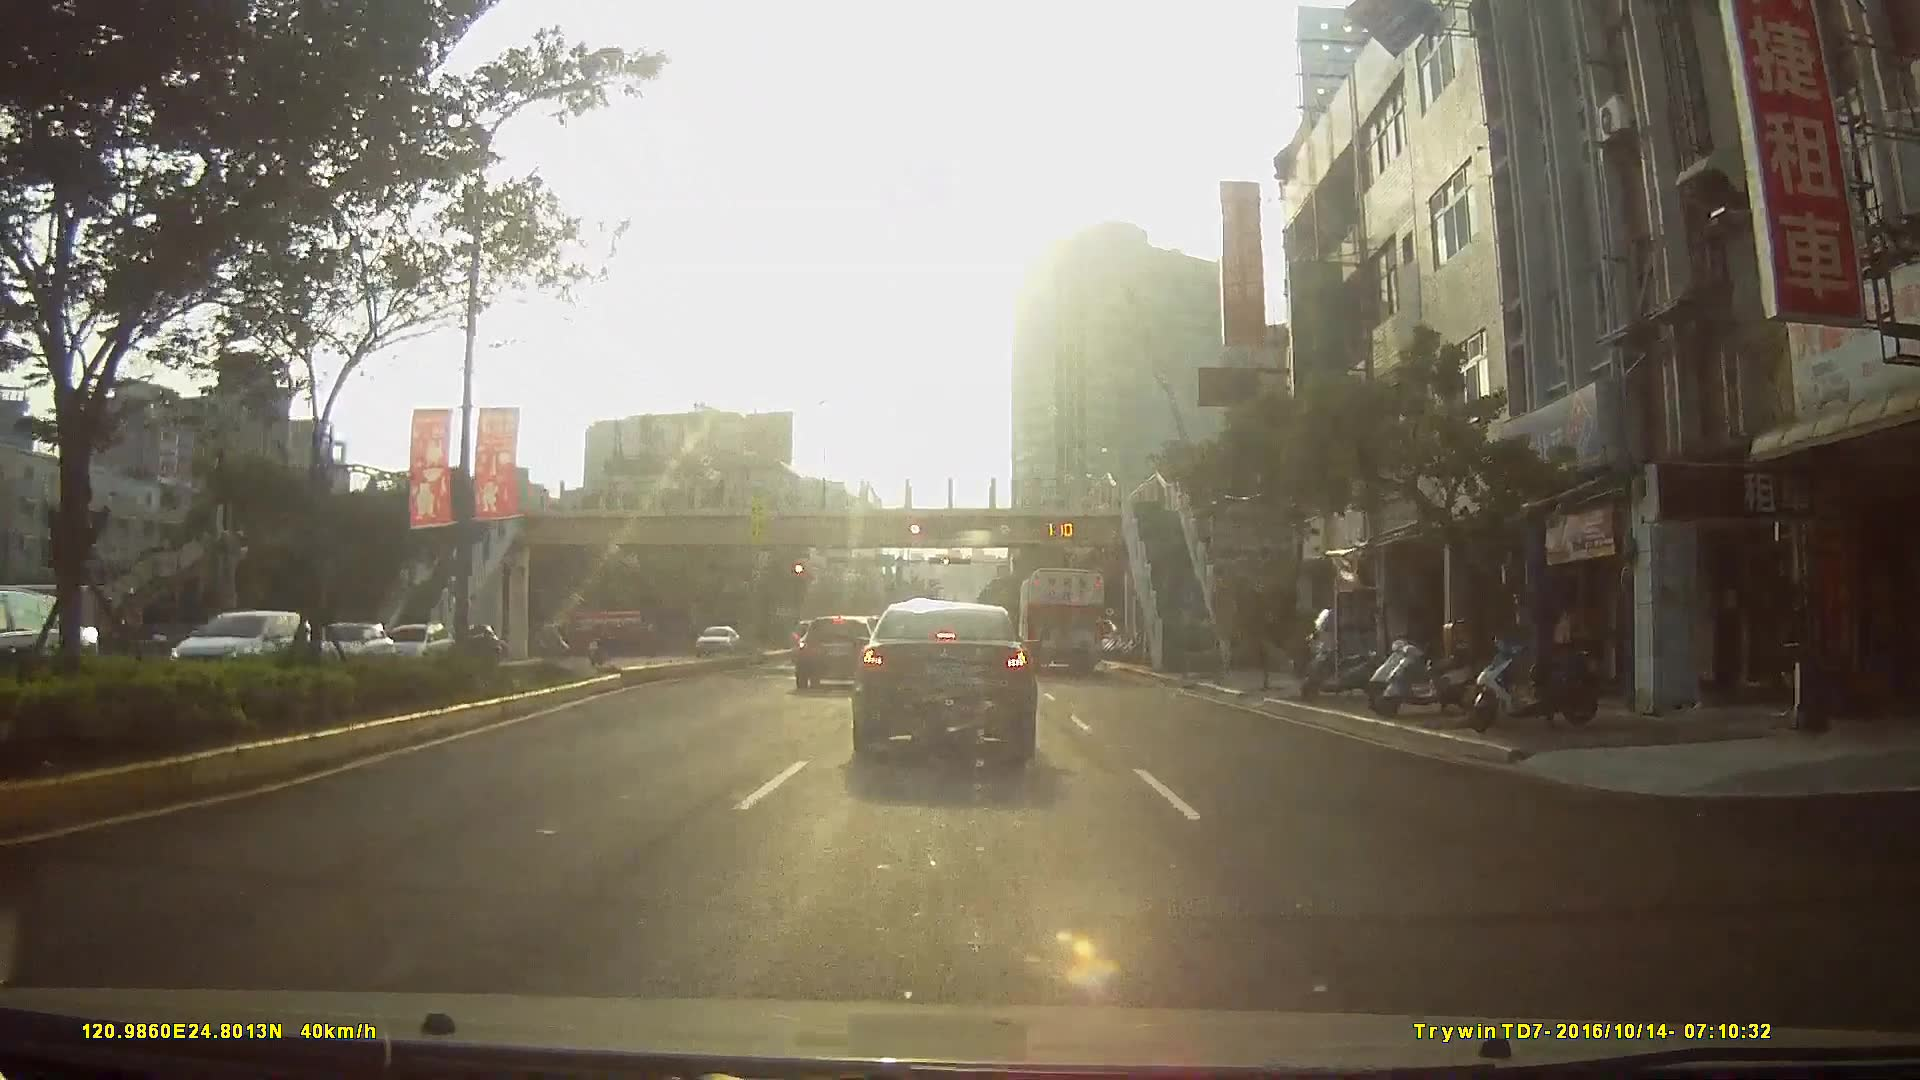rider: (585, 623, 620, 668)
vehicle: (848, 598, 1038, 758), (1015, 564, 1109, 675), (790, 613, 878, 693), (302, 622, 396, 675), (690, 623, 739, 660)
